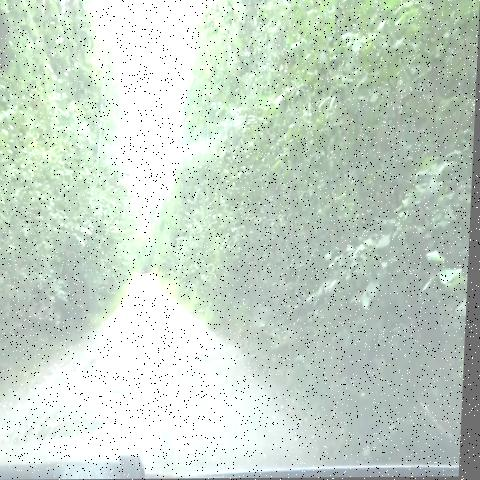pothole: (5, 401, 131, 454), (132, 358, 199, 385), (103, 376, 146, 407), (133, 345, 172, 367), (112, 338, 146, 363)
